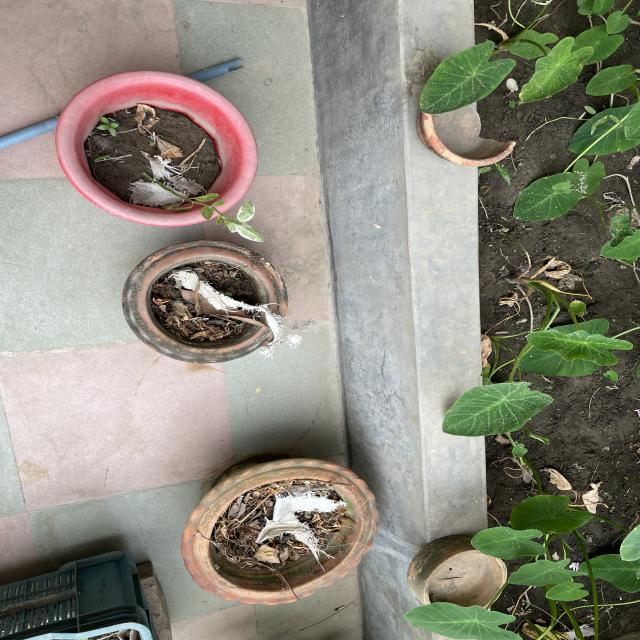Breeding Place: (54, 70, 259, 228), (182, 457, 377, 604), (123, 240, 290, 364), (420, 63, 521, 166), (410, 532, 511, 616)
